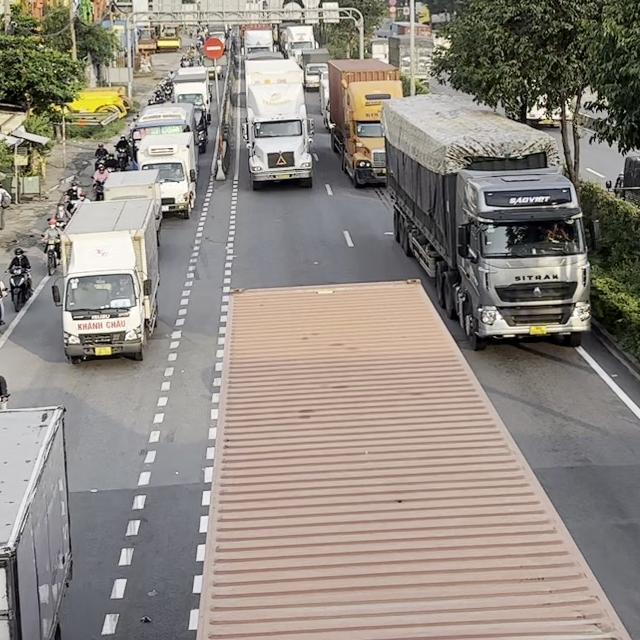motorcycle: (5, 266, 32, 312), (40, 232, 61, 276), (0, 276, 7, 327)
truck: (200, 272, 632, 640), (379, 92, 592, 351), (50, 196, 161, 364), (0, 403, 73, 639), (320, 58, 404, 188), (243, 57, 319, 189), (135, 130, 198, 218), (102, 168, 163, 246), (170, 66, 212, 123)
